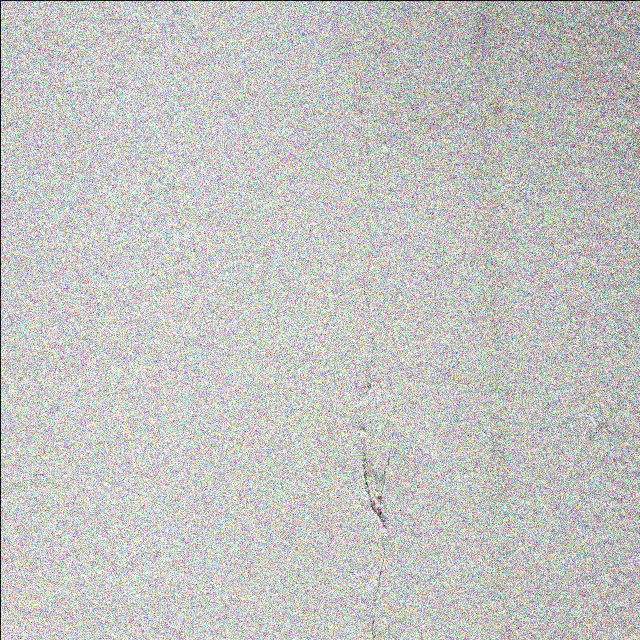SurfaceCrack: (299, 1, 437, 640)
